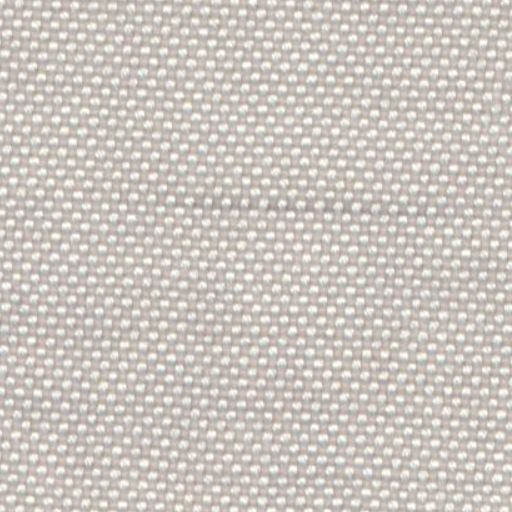WuZi: (168, 190, 420, 218)
